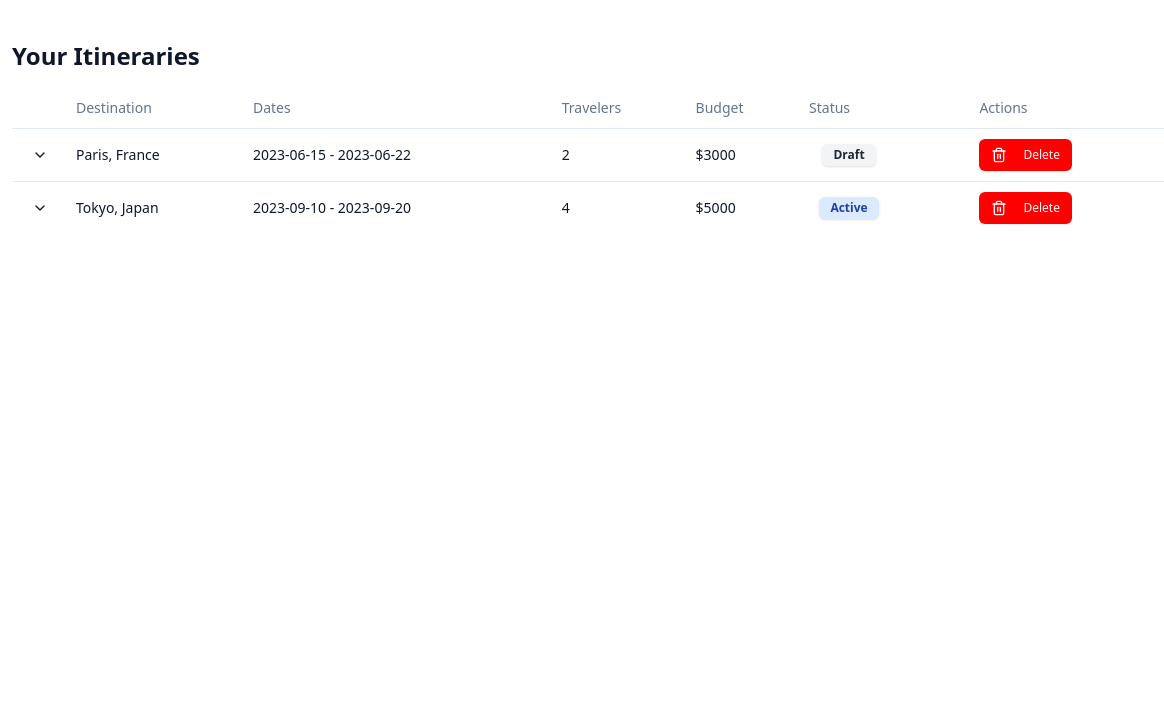
Test: ItineraryList › expands and collapses rows
What coordinates should you click on to do the following:
click the button named "Expand row" next to "Paris, France"
I would click on:
 (40, 154)
Its box is [20,138,60,170].
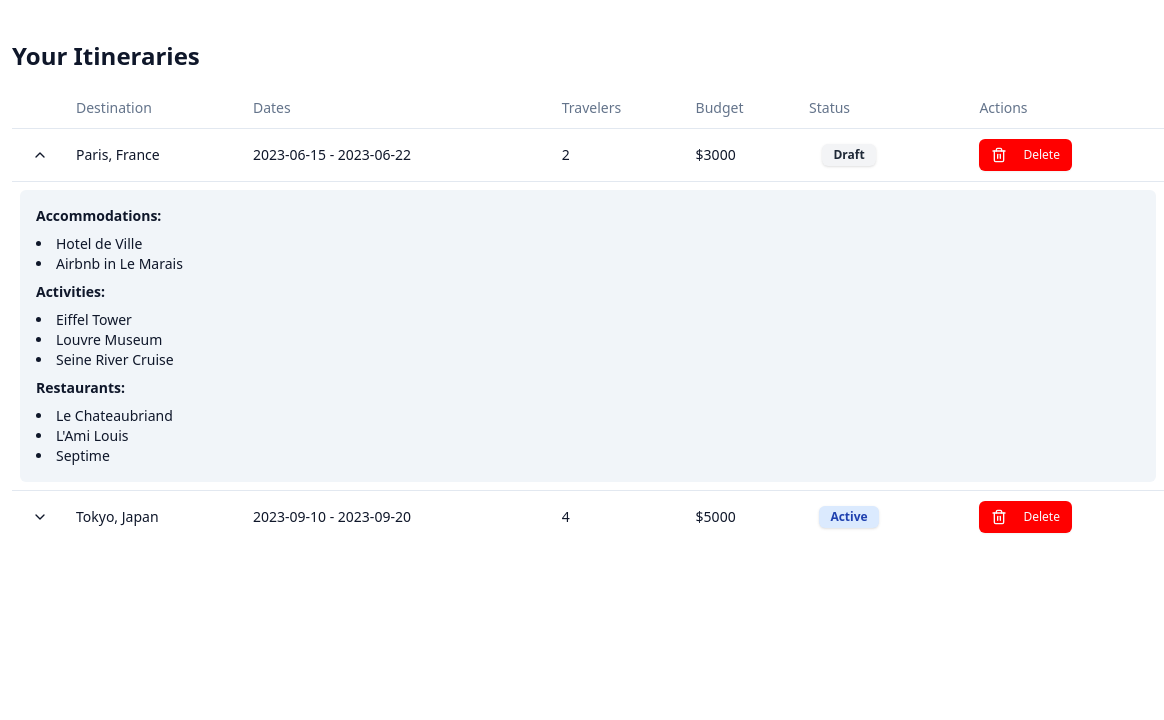
Result: the list item "Hotel de Ville" is shown at [56,234,142,252]
What coordinates should you click on to do the following:
click the button named "Expand row"
I would click on:
 (40, 154)
Its box is [20,138,60,170].
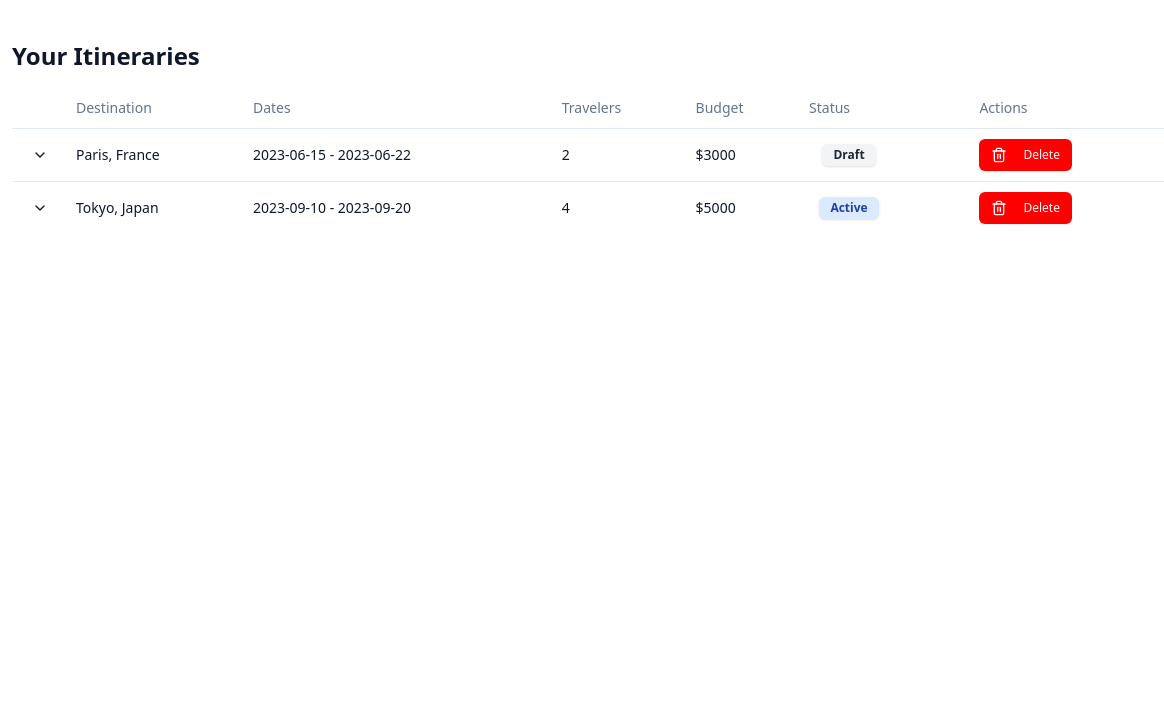
Result: the list item "Hotel de Ville" is gone
